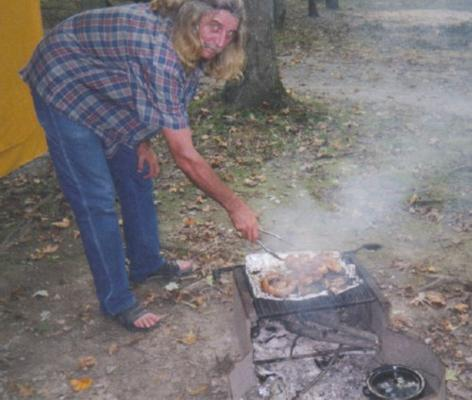person: (21, 5, 263, 328)
